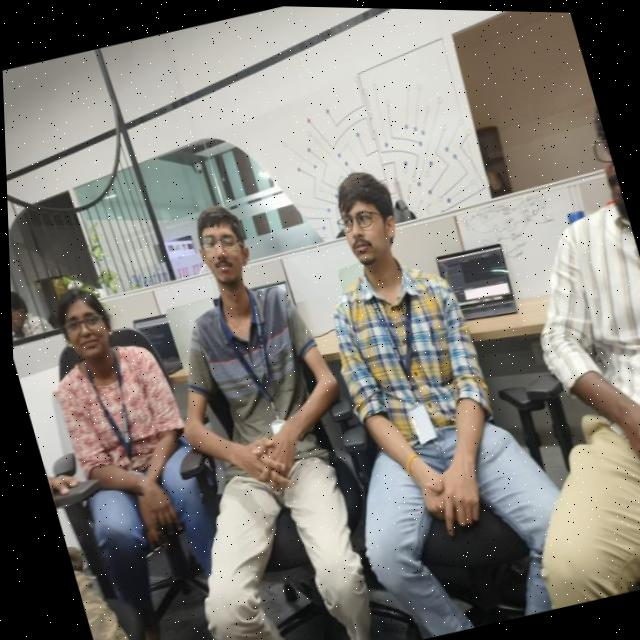id_card: (349, 260, 451, 453), (205, 289, 300, 440), (77, 351, 156, 487)
